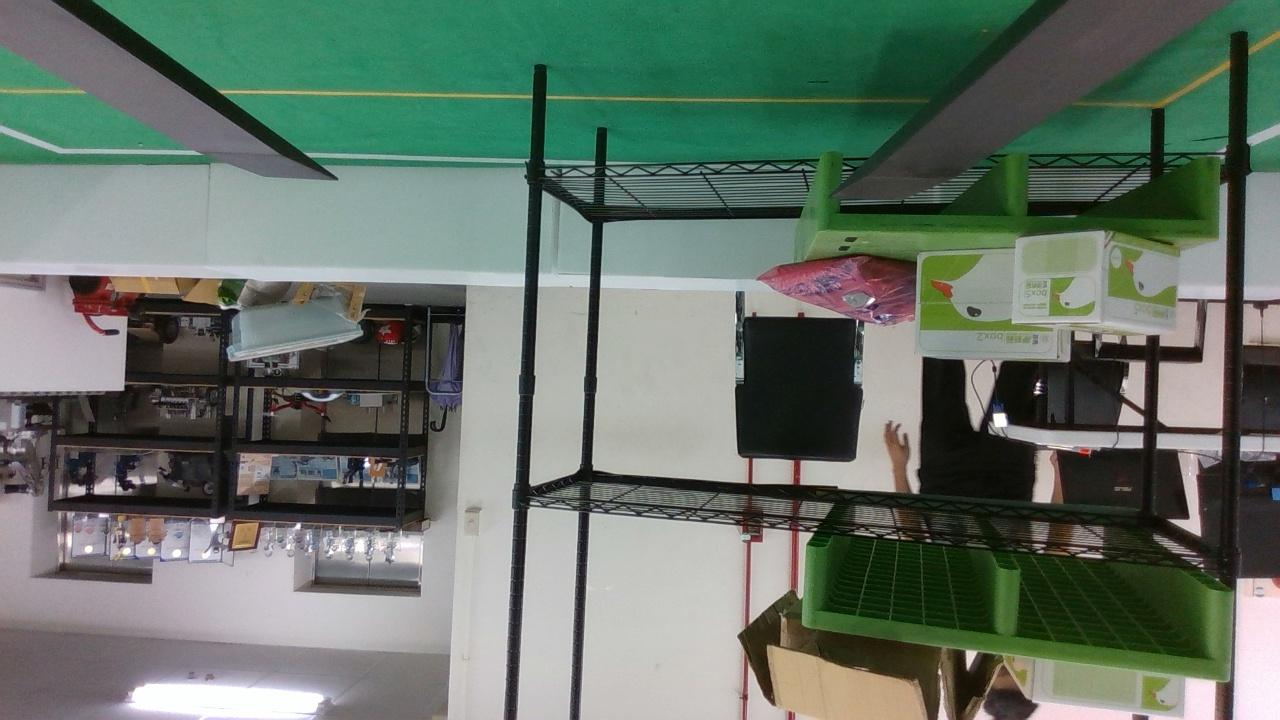Pallet: (789, 539, 1239, 681), (807, 149, 1223, 241)
